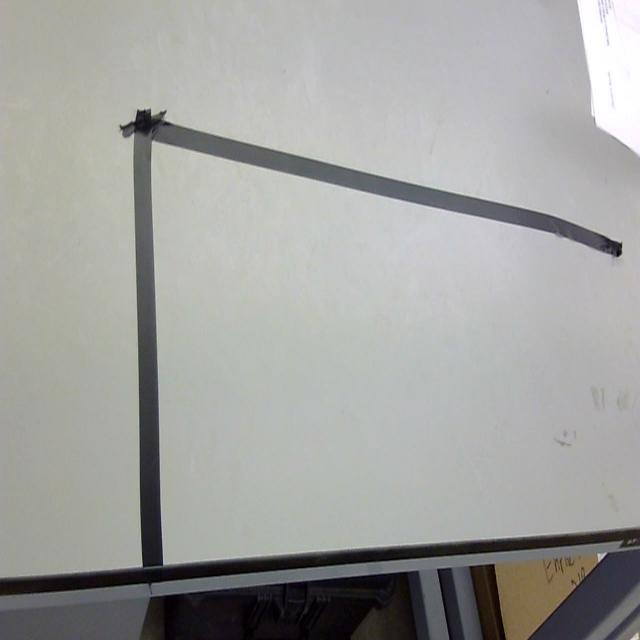tape: (104, 88, 630, 585)
